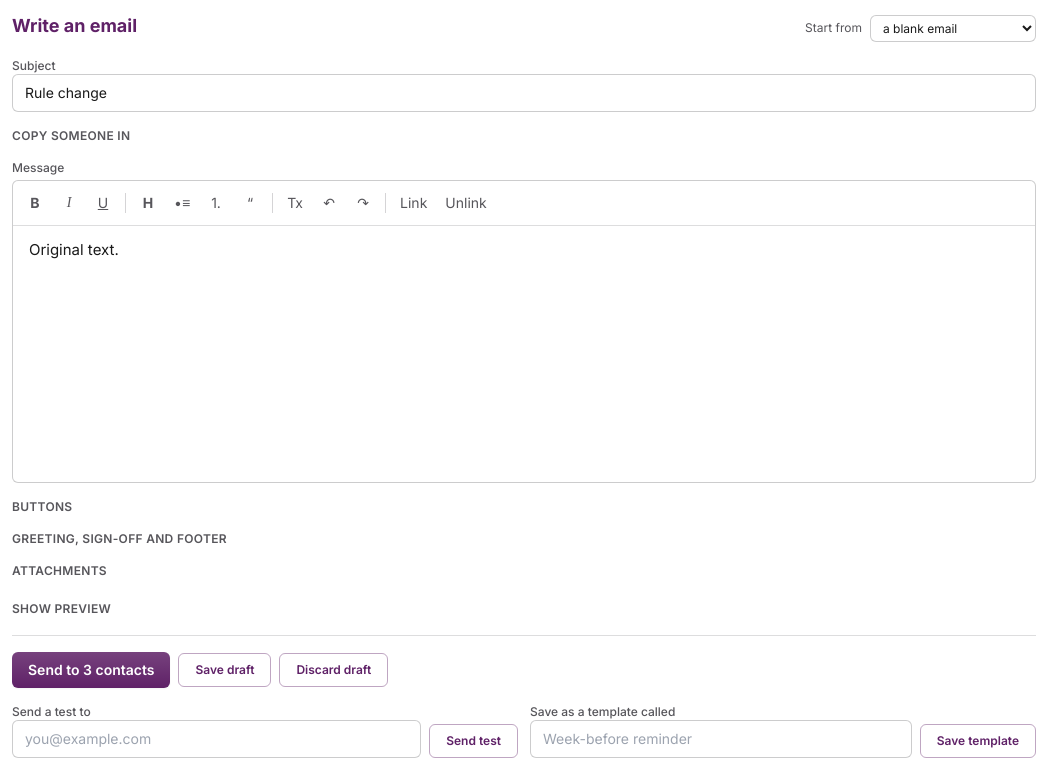
Scenario: the message box › replaces the text when an email is started from a template
This screenshot has width=1048, height=772.
Select "Week-before reminder" in the dropdown labelled "Start from". click: point(953, 28)
box: [870,14,1036,42]
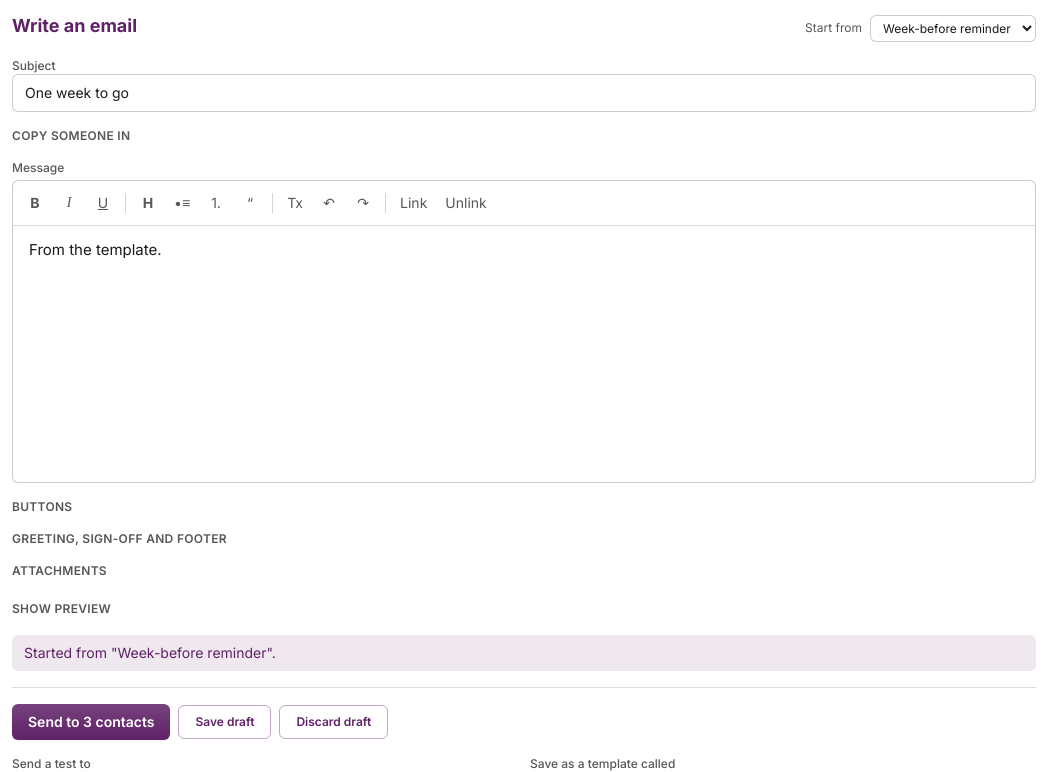
Check: the field named "Message" shows "From the template", box [29,240,162,258]
Check: the text box labelled "Message" no longer shows "Original text"
